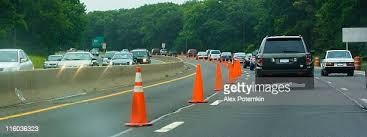car: (255, 34, 313, 88), (320, 50, 355, 76), (1, 47, 34, 73), (60, 52, 99, 71), (111, 52, 136, 68), (130, 50, 152, 64), (43, 54, 63, 68), (103, 51, 118, 67), (208, 50, 221, 61), (220, 51, 232, 62), (234, 52, 245, 64), (196, 51, 207, 60)
cone: (124, 67, 153, 126), (189, 64, 208, 104), (214, 64, 224, 92), (228, 64, 235, 84)
